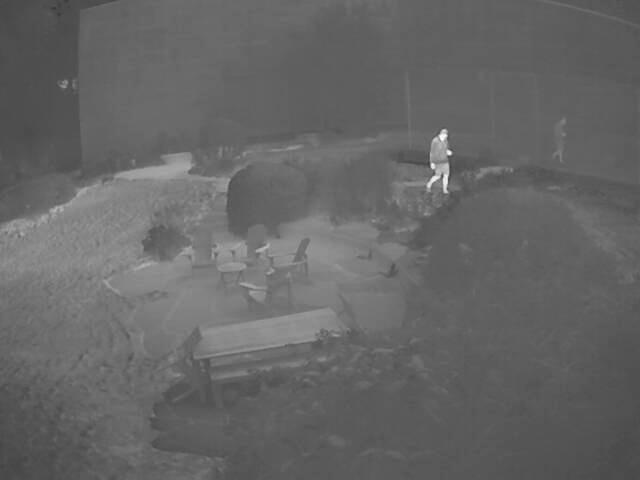person: (426, 128, 452, 196), (547, 113, 571, 163)
